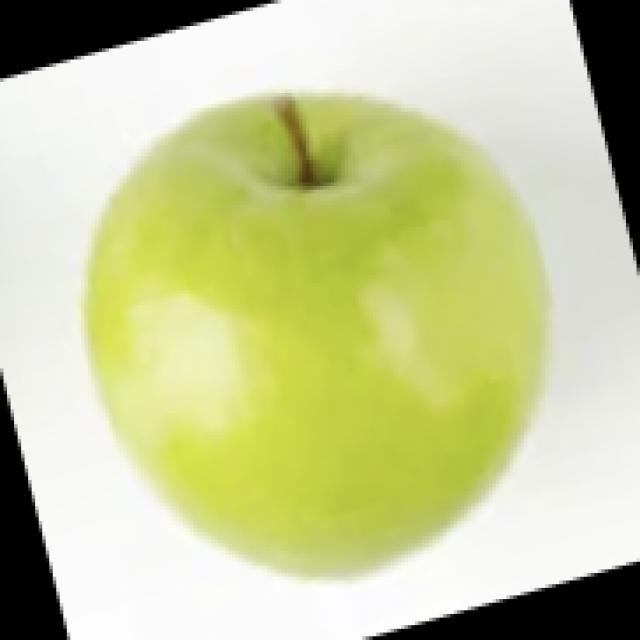Fresh Apple: (95, 78, 565, 565)
